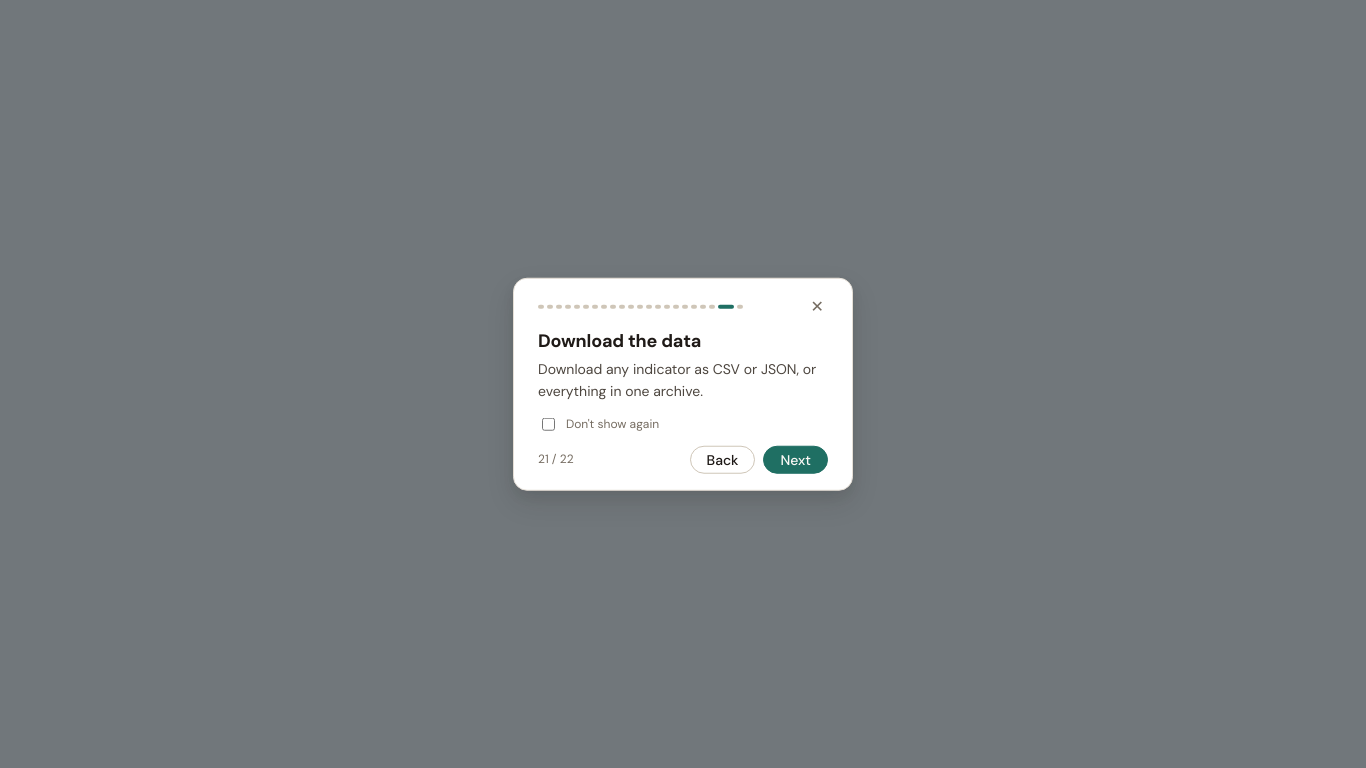
Test: Tour › started from the map, the tour begins there and returns to the same URL at the end
What coordinates should you click on to do the following:
click the button "Next"
I would click on:
 (796, 459)
Its box is [764,445,828,473].
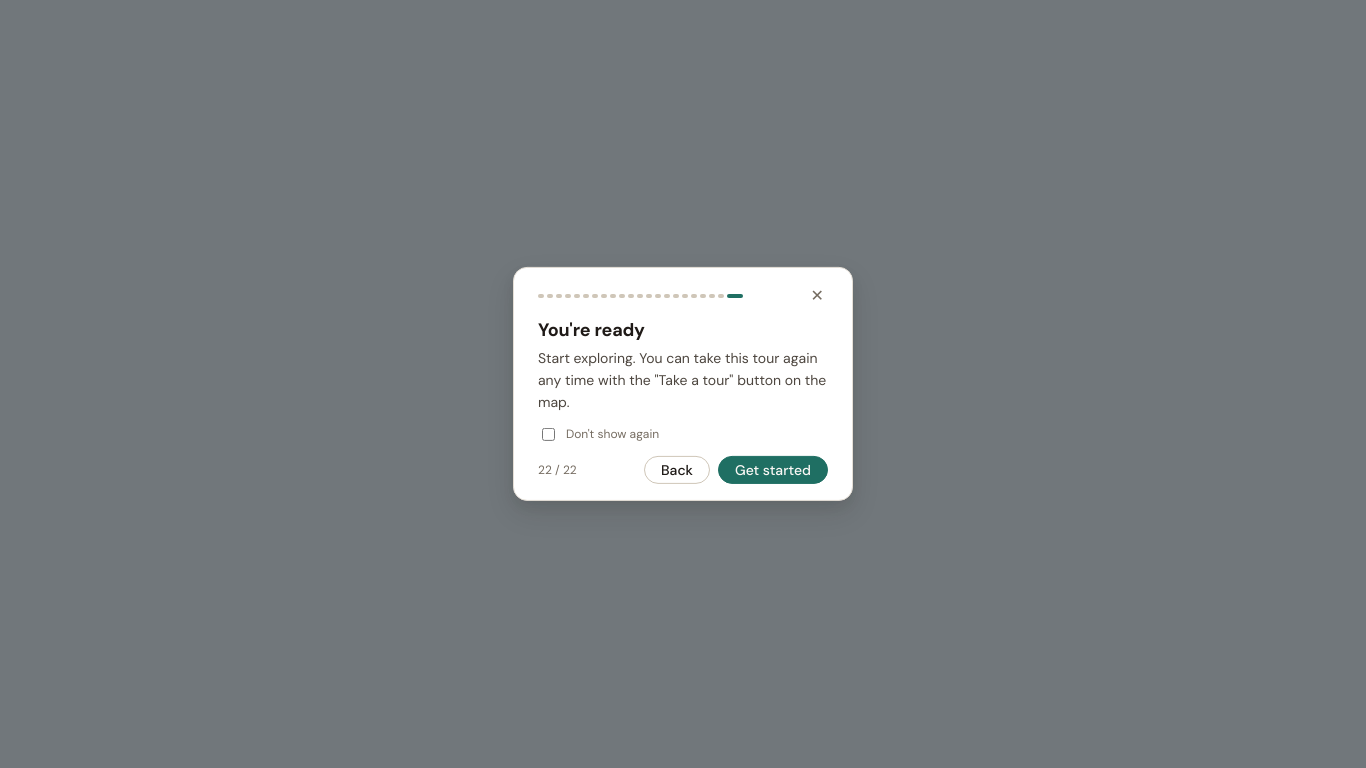
Expected: the heading "You're ready" is shown, [538,318,645,342]
